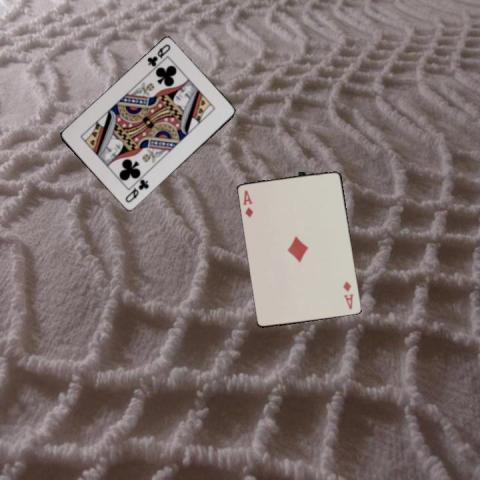Ad: (240, 186, 255, 218), (341, 278, 355, 311)
Qc: (122, 177, 151, 204), (144, 41, 172, 68)
